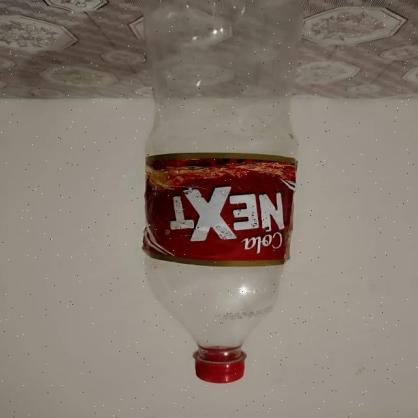bottle: (148, 0, 294, 381)
cap: (196, 358, 246, 383)
label: (144, 152, 296, 263)
